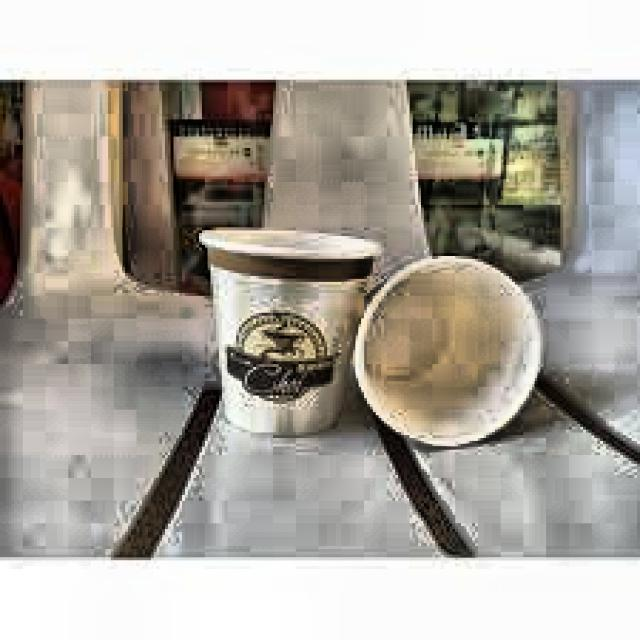Cup: (364, 223, 556, 474), (221, 224, 360, 439)
